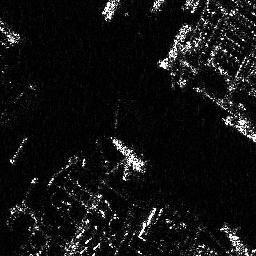ship: (110, 134, 147, 173), (158, 23, 188, 69), (220, 221, 253, 256), (221, 114, 256, 143), (9, 135, 27, 164), (1, 19, 21, 43)
